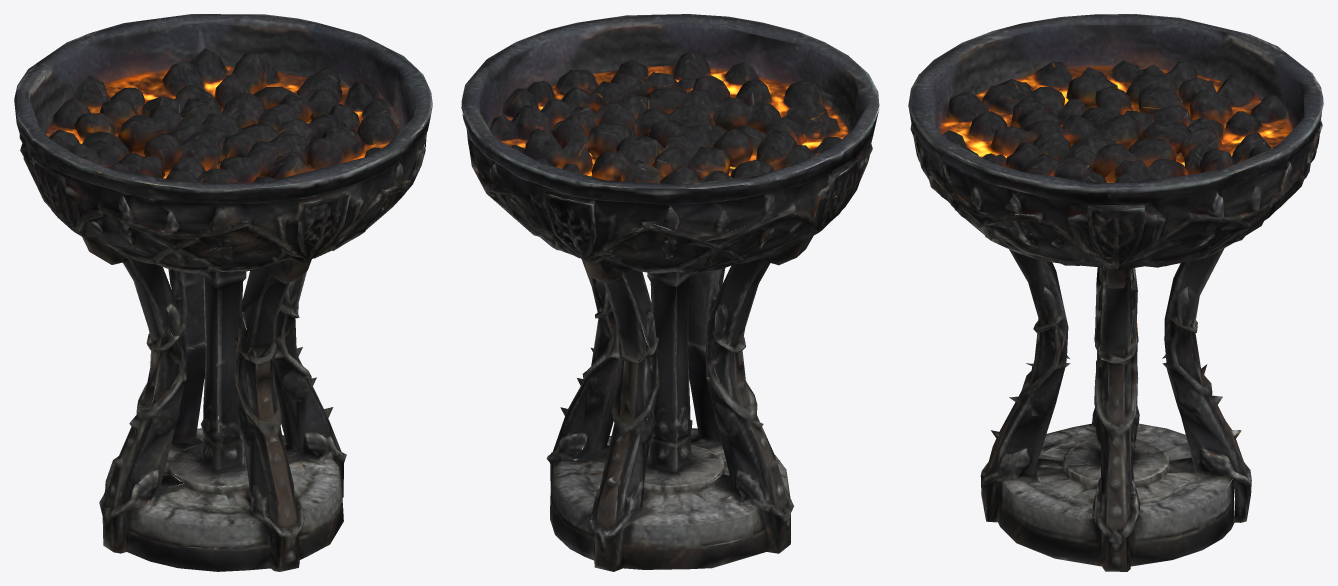
Rendered from briarhold-brazier-512.glb.
3 renders of one model, left to right at view 1: azimuth 30°, elevation 25°; view 2: azimuth 150°, elevation 25°; view 3: azimuth 270°, elevation 25°, orthographic.
Parts seen in each view (by area): view 1: briarhold-brazier; view 2: briarhold-brazier; view 3: briarhold-brazier.
Boxes of the visible parts, <box> form: briarhold-brazier: <box>14,14,432,571</box>; briarhold-brazier: <box>461,14,879,571</box>; briarhold-brazier: <box>908,14,1323,571</box>.
Bounding box in the file's own units: 1.4 × 1.55 × 1.4.
1 material, 1 textured.
